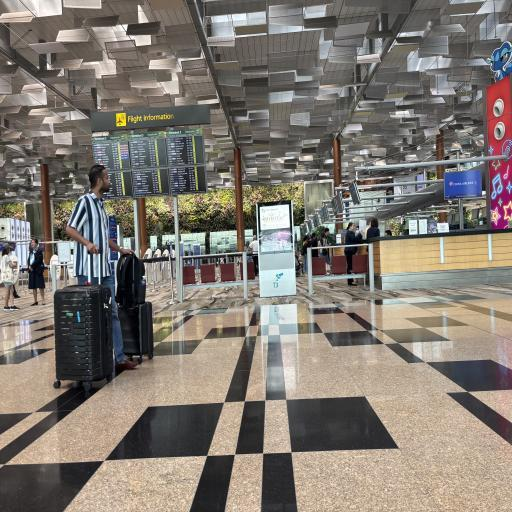person_with_luggage_right: (45, 138, 161, 390)
